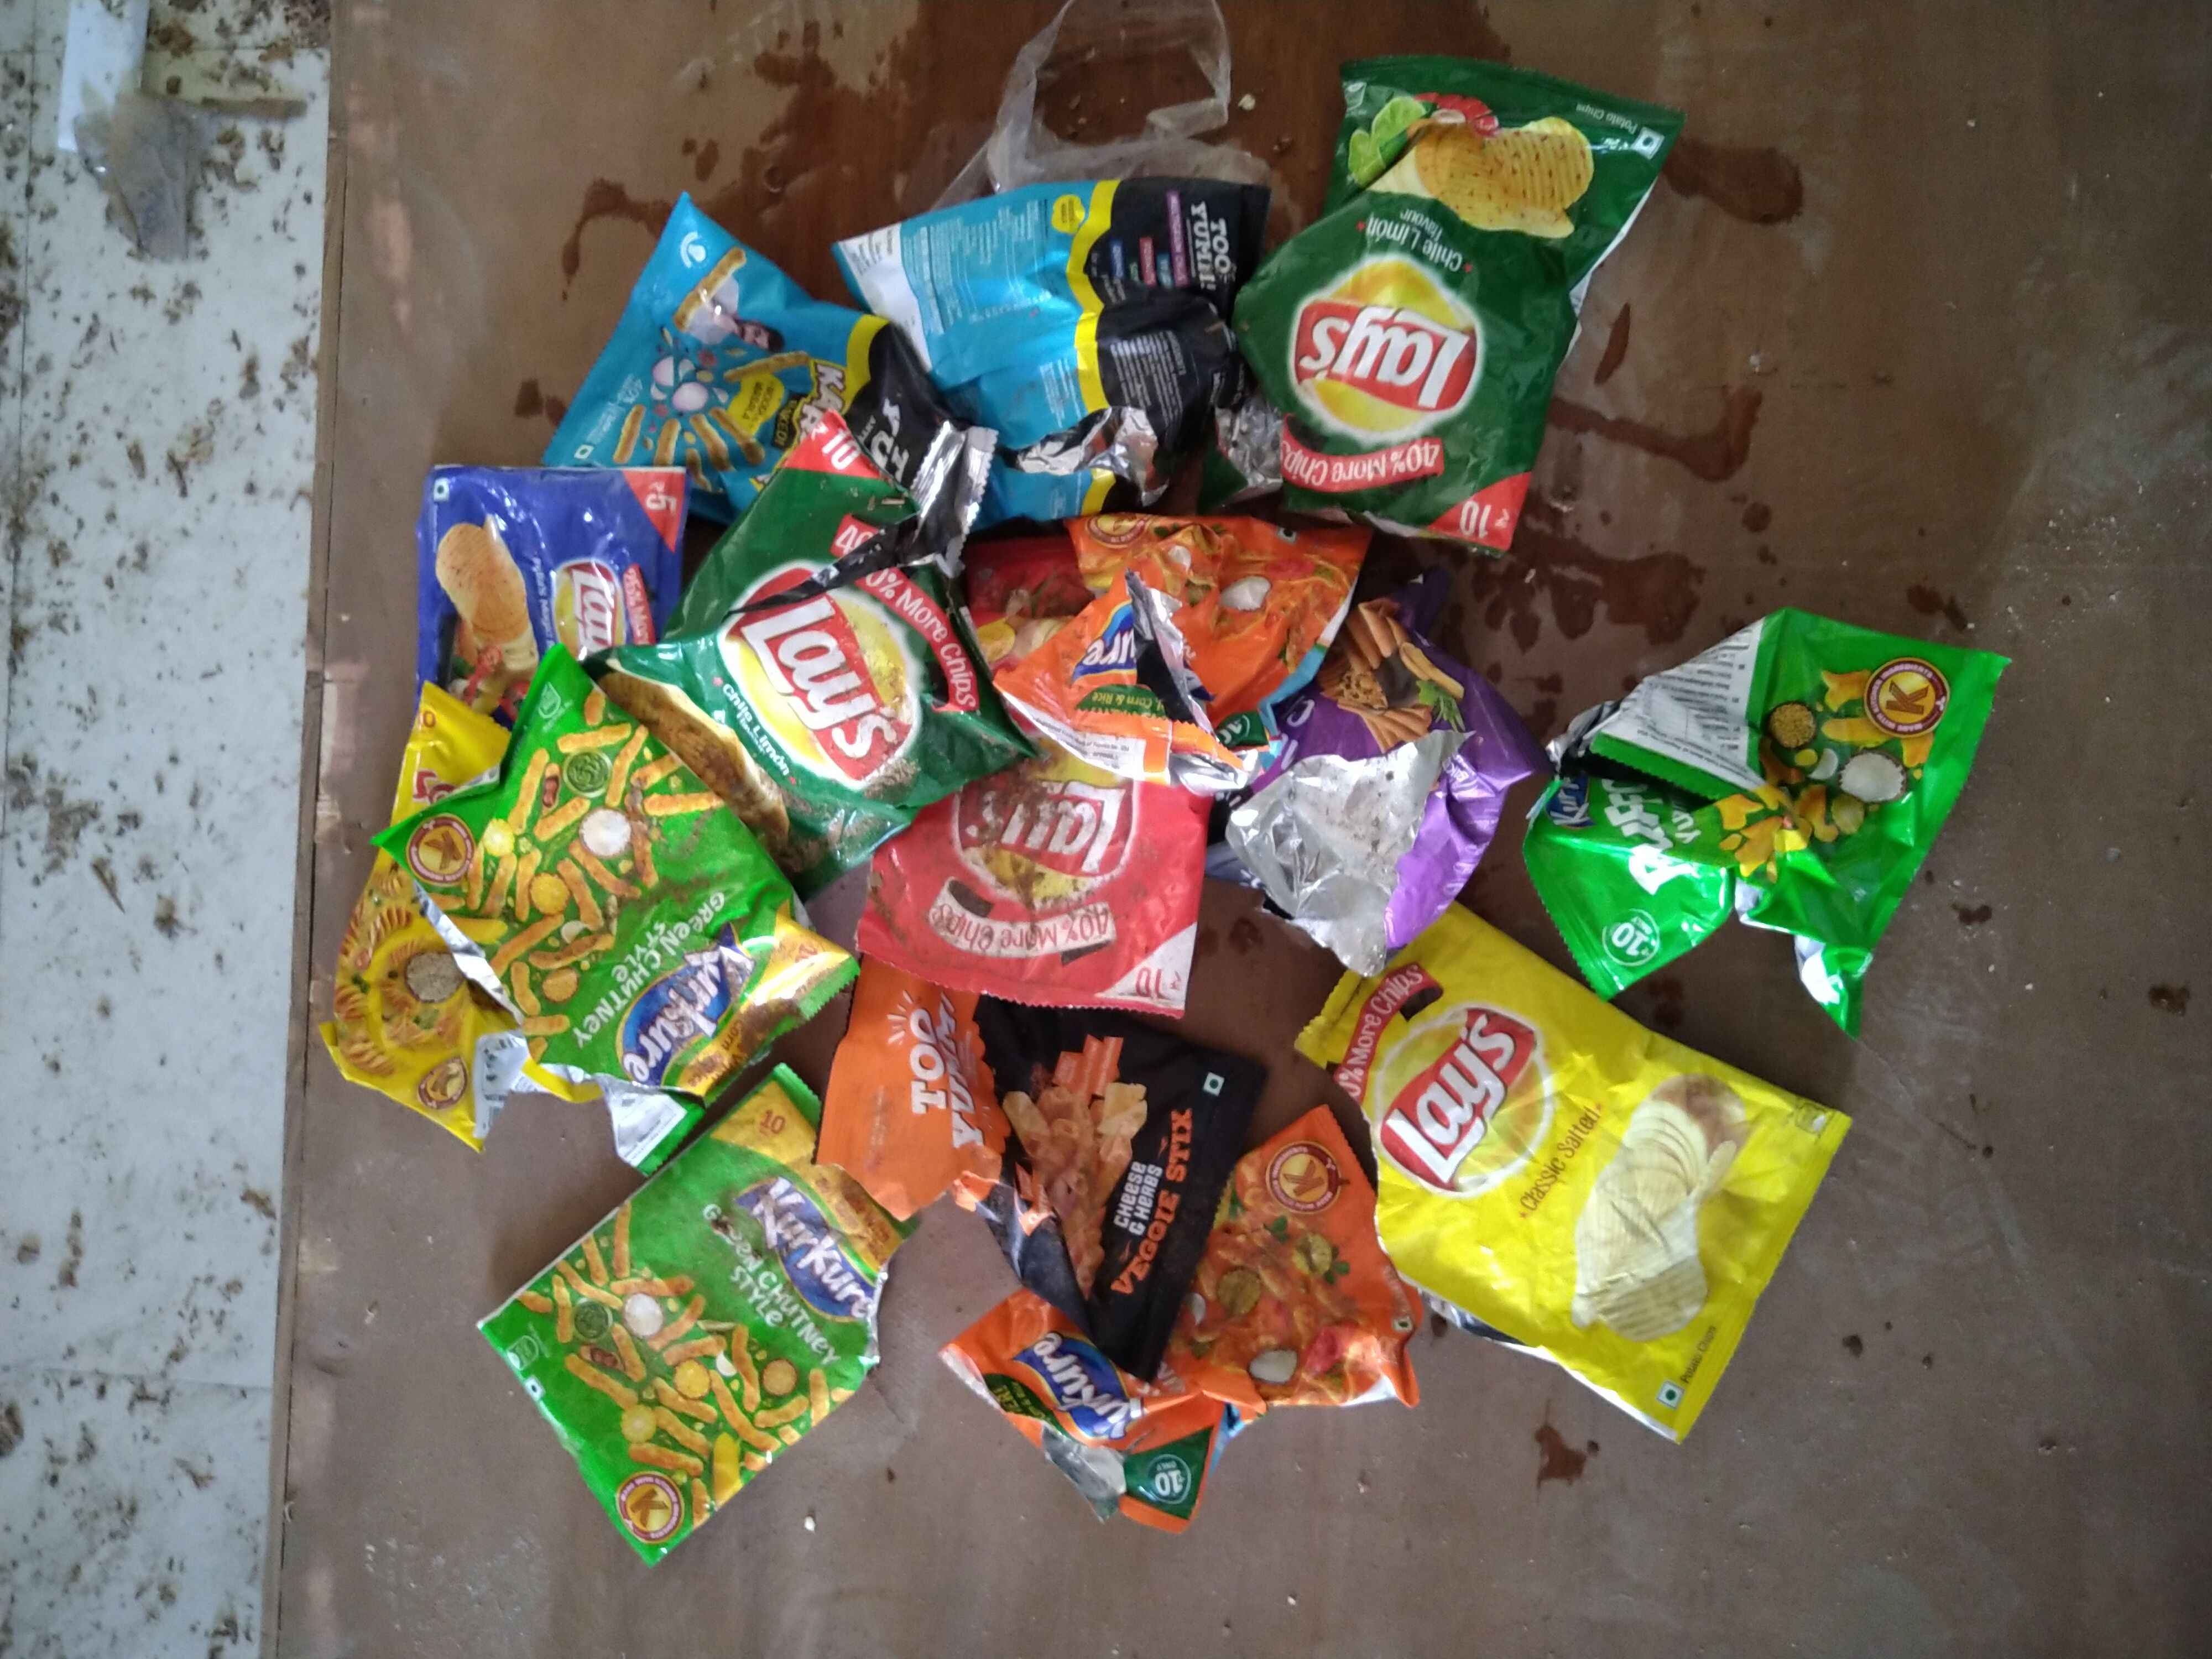Lays: (709, 551, 942, 786), (1284, 237, 1505, 455), (1357, 999, 1543, 1208), (970, 725, 1167, 906), (538, 542, 631, 673)
kurkure: (740, 1173, 907, 1331), (589, 918, 756, 1077), (1007, 1312, 1158, 1445), (1078, 587, 1237, 683), (1538, 737, 1609, 845)
tooyumm: (897, 974, 989, 1155), (840, 389, 923, 497), (1183, 186, 1242, 298)
